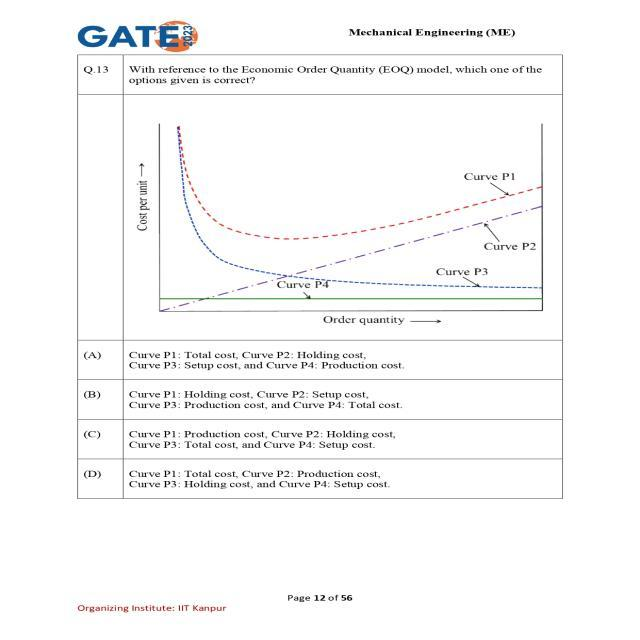Answer_Block: (51, 340, 596, 502)
Question_Answer_Block: (51, 49, 596, 502)
Question_Block: (51, 48, 596, 340)
Question_Paper_Area: (51, 48, 596, 568)
